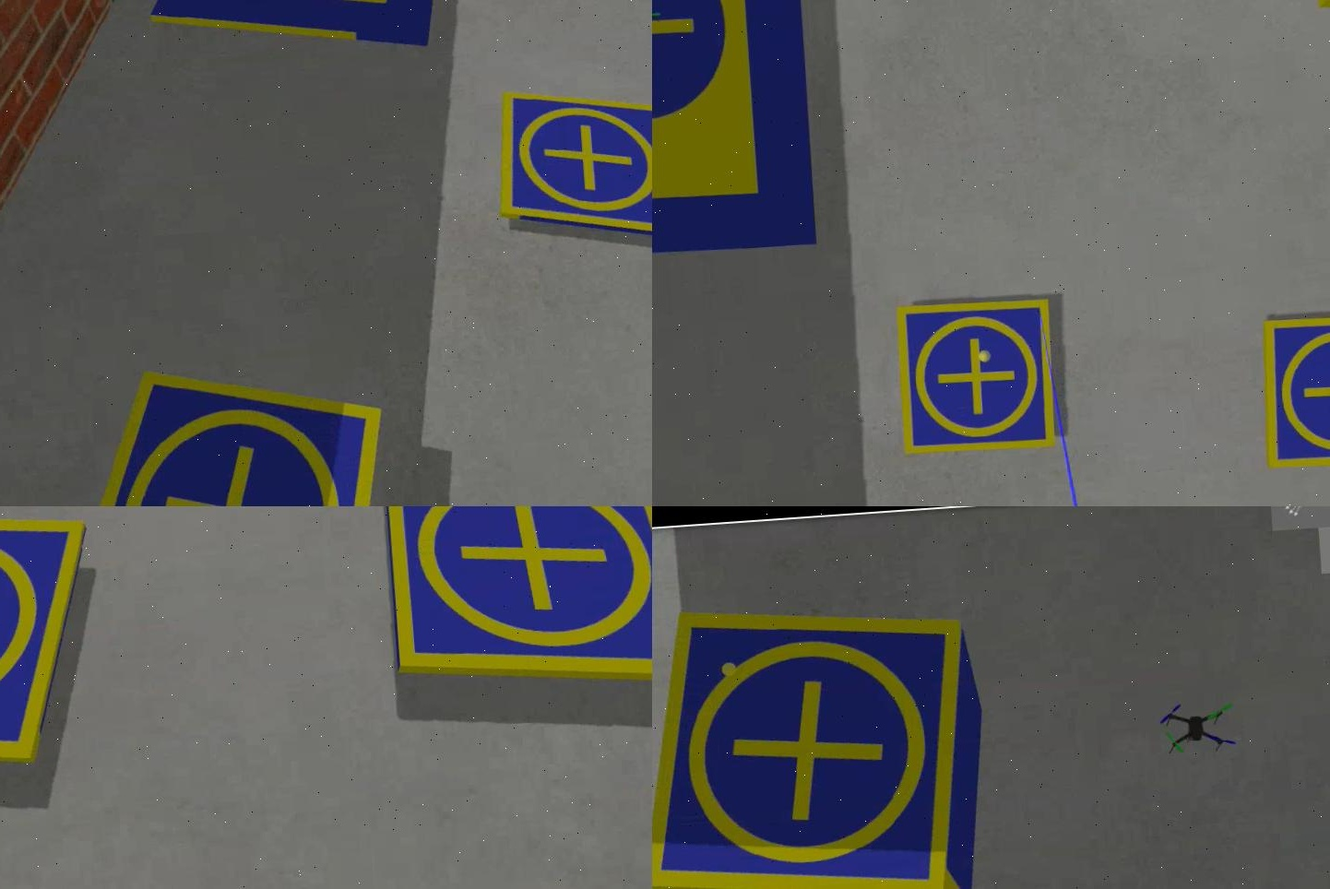large_base: (651, 1, 818, 264), (138, 1, 458, 68)
small_base: (651, 594, 982, 889), (45, 350, 397, 506), (375, 506, 651, 702), (488, 77, 651, 256), (891, 295, 1059, 462), (0, 506, 101, 783), (1253, 306, 1328, 468)
